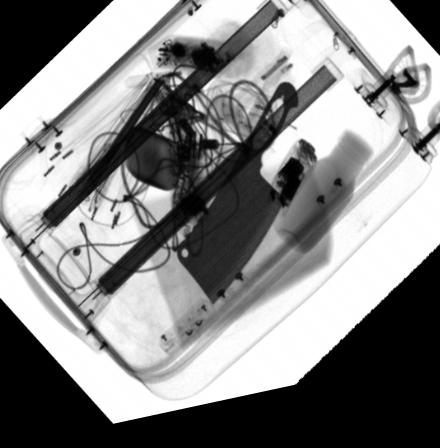Knife: (177, 94, 298, 313)
